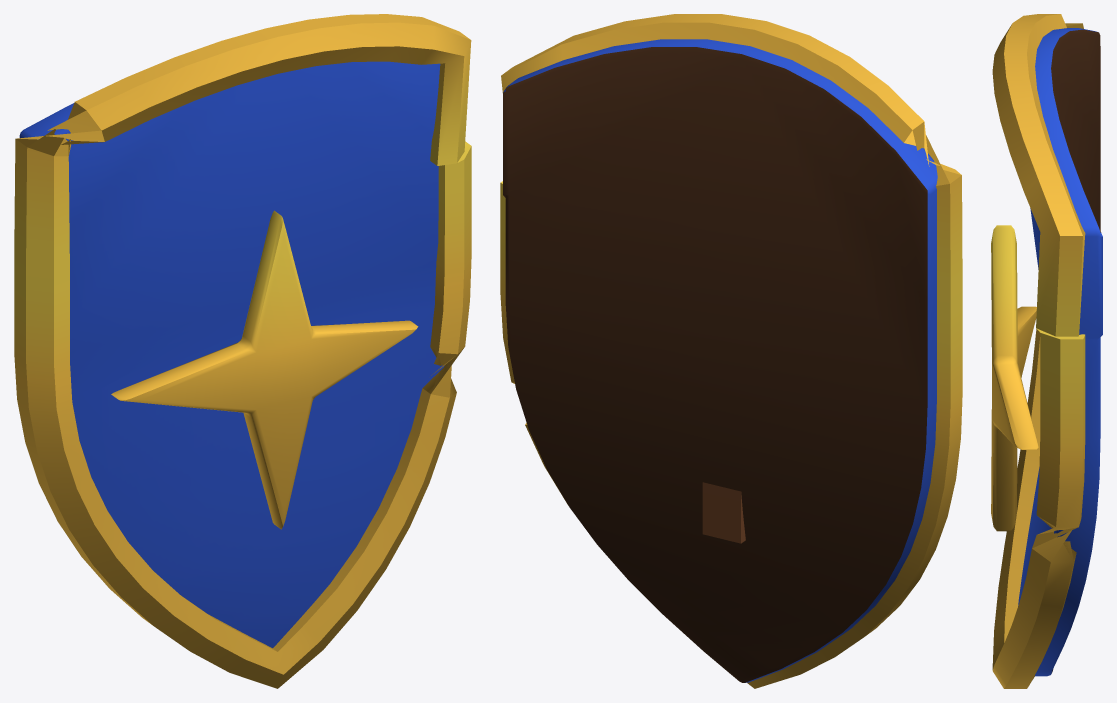
The model's file is Weapon_RoyalStarShield.fbx.
3 renders of one model, left to right at view 1: azimuth 30°, elevation 25°; view 2: azimuth 150°, elevation 25°; view 3: azimuth 270°, elevation 25°, orthographic. The views are drawn at different scales.
Parts seen in each view (by area): view 1: RoyalStarShield; view 2: RoyalStarShield; view 3: RoyalStarShield.
Part boxes in pixels (<box>): RoyalStarShield: <box>14,14,471,688</box>; RoyalStarShield: <box>500,14,962,688</box>; RoyalStarShield: <box>991,14,1102,688</box>.
Size of the model in its own units: 0.3497 by 0.489 by 0.078.
